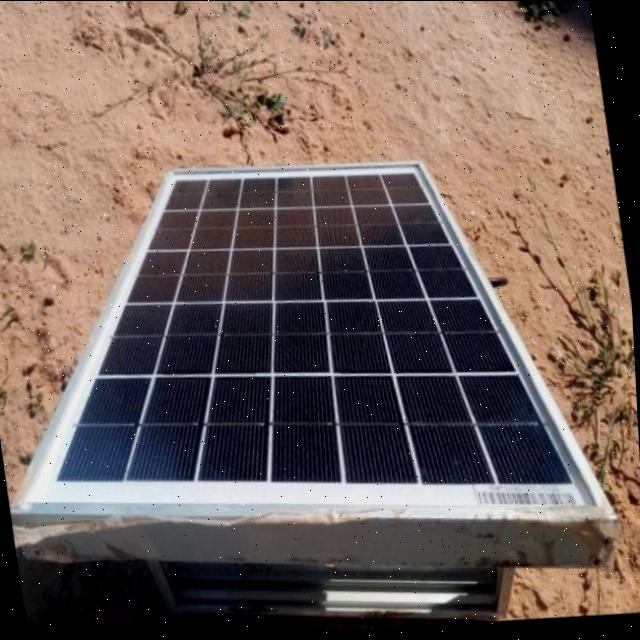Normal Solar Panel: (1, 139, 618, 572)
